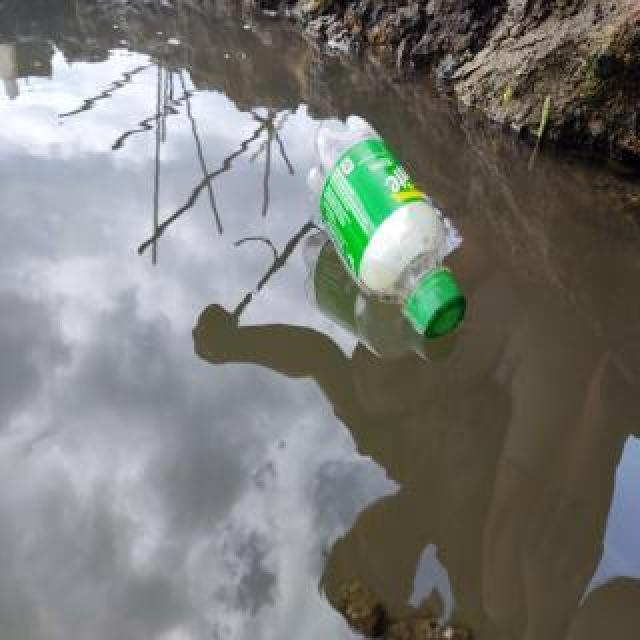bottle: (301, 106, 471, 344)
